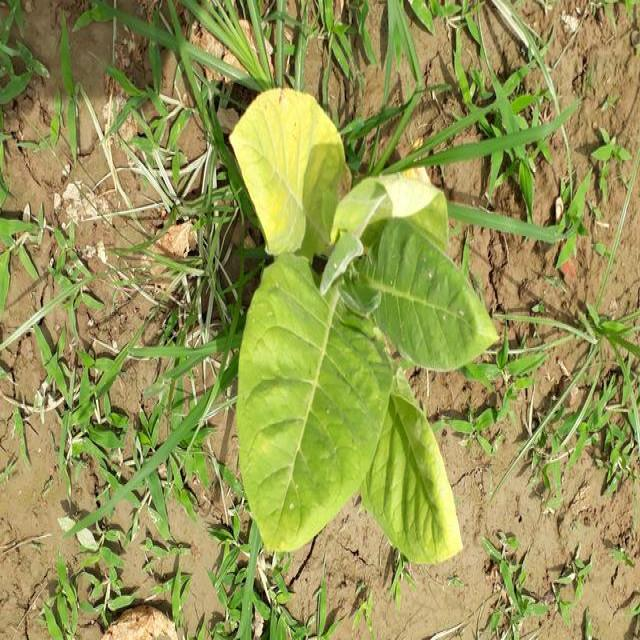crop: (230, 87, 462, 568)
